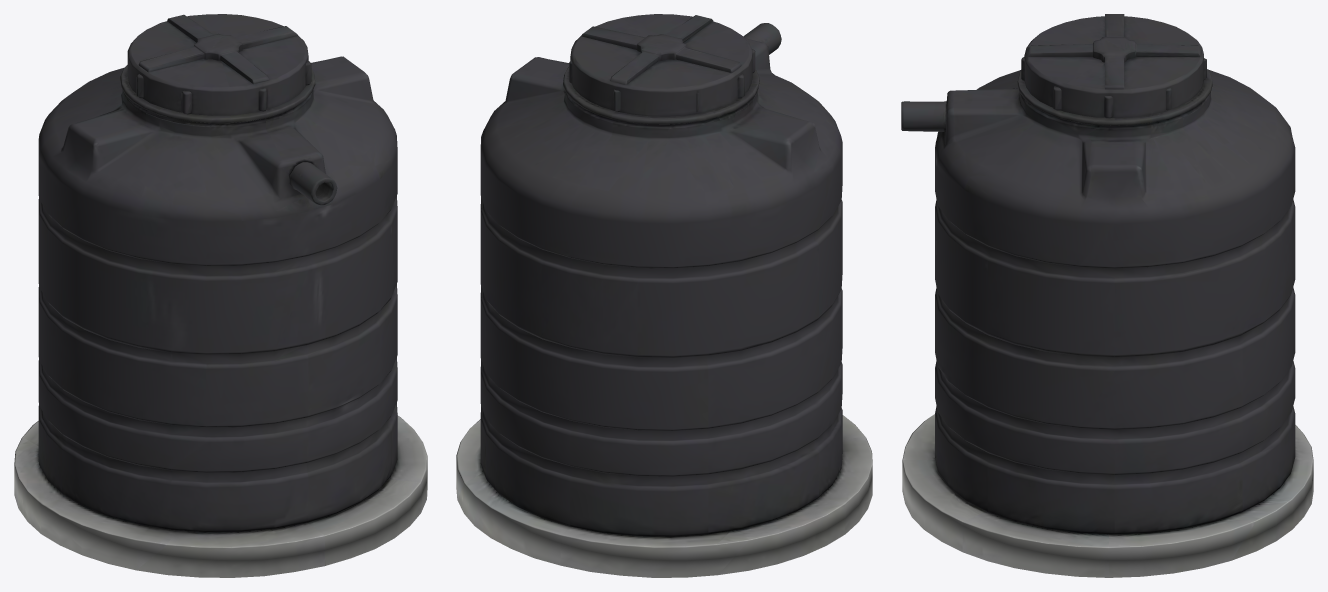
Rendered from caixa_dagua_preta.glb.
3 views of the same model, side by side, from view 1: azimuth 30°, elevation 25°; view 2: azimuth 150°, elevation 25°; view 3: azimuth 270°, elevation 25° (orthographic).
Parts seen in each view (by area): view 1: Ribbed Black Water Tank; view 2: Ribbed Black Water Tank; view 3: Ribbed Black Water Tank.
Boxes of the visible parts, bbox=[...] form: Ribbed Black Water Tank: bbox=[14, 14, 427, 577]; Ribbed Black Water Tank: bbox=[456, 14, 872, 577]; Ribbed Black Water Tank: bbox=[901, 14, 1313, 577].
Bounding box in the file's own units: 0.8418 × 0.998 × 0.8379.
Materials: 1 (1 with a texture image).
